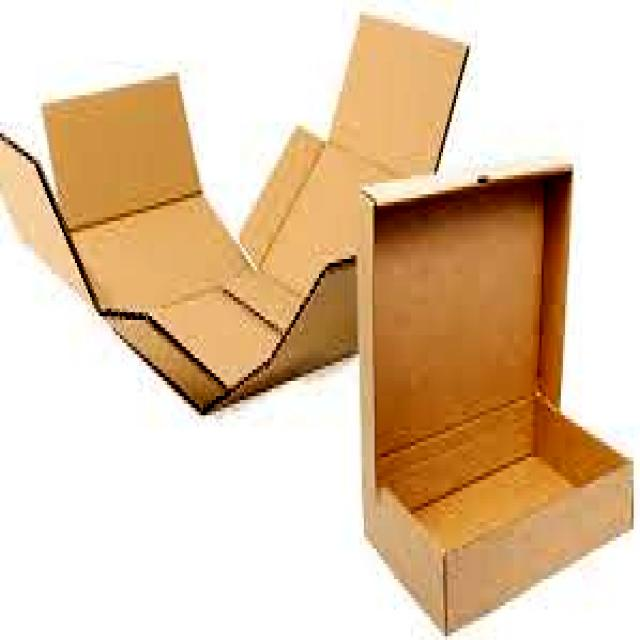Cardboard: (357, 159, 635, 629), (46, 99, 362, 400)
